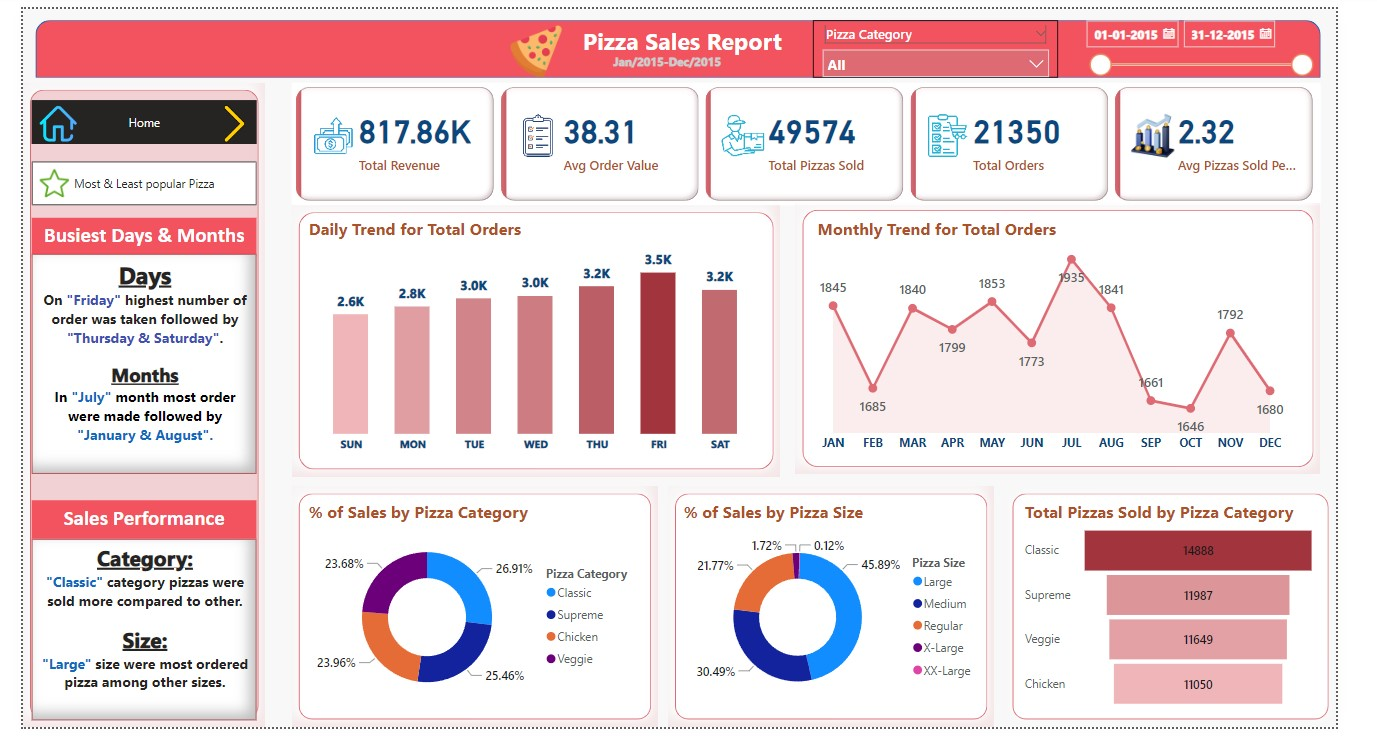

Layout of this report page (visuals, bound fields, positions):
{"tool":"powerbi","page":{"name":"Home","canvas":[1500,820],"ordinal":0},"visuals":[{"type":"shape","box":[0,84.3,277.1,735.7],"z":0},{"type":"cardVisual","fields":{"Data":["pizza_sales.Total Revenue","pizza_sales.Avg Order Value","pizza_sales.Total Pizzas Sold","pizza_sales.Total Orders","pizza_sales.Avg Pizzas Sold Per Order"]},"box":[307.1,84.3,1175.7,140],"z":1000},{"type":"textbox","box":[10,238.6,257.1,44.3],"z":2000},{"type":"shape","box":[14.3,12.9,1468.6,65.7],"z":3000},{"type":"textbox","box":[624.3,12.9,258.6,57.1],"z":4000},{"type":"textbox","box":[621.4,45.7,230,32.9],"z":5000},{"type":"image","box":[537.1,12.9,98.6,71.4],"z":6000},{"type":"shape","box":[307.1,224.3,558.6,310],"z":7000},{"type":"columnChart","title":"Daily Trend for Total Orders","fields":{"Category":["pizza_sales.Order Day"],"Y":["pizza_sales.Total Orders"]},"box":[321.4,238.6,530,277.1],"z":8000},{"type":"shape","box":[882.9,221.4,600,310],"z":9000},{"type":"areaChart","title":"Monthly Trend for Total Orders","fields":{"Y":["pizza_sales.Total Orders"],"Category":["pizza_sales.Order Month"]},"box":[902.9,238.6,545.7,277.1],"z":10000},{"type":"shape","box":[307.1,545.7,418.6,274.3],"z":11000},{"type":"shape","box":[737.1,545.7,372.9,274.3],"z":12000},{"type":"shape","box":[1122.9,545.7,377.1,274.3],"z":13000},{"type":"donutChart","title":"% of Sales by Pizza Category","fields":{"Category":["pizza_sales.pizza_category"],"Y":["pizza_sales.Total Revenue"]},"box":[321.4,561.4,390,242.9],"z":14000},{"type":"donutChart","title":"% of Sales by Pizza Size","fields":{"Category":["pizza_sales.pizza_size"],"Y":["pizza_sales.Total Revenue"]},"box":[750,561.4,350,242.9],"z":15000},{"type":"funnel","title":"Total Pizzas Sold by Pizza Category","fields":{"Category":["pizza_sales.pizza_category"],"Y":["pizza_sales.Total Pizzas Sold"]},"box":[1140,561.4,342.9,242.9],"z":16000},{"type":"textbox","box":[10,280,257.1,251.4],"z":17000},{"type":"textbox","box":[10,561.4,257.1,44.3],"z":18000},{"type":"textbox","box":[10,605.7,257.1,207.1],"z":19000},{"type":"slicer","fields":{"Values":["pizza_sales.pizza_category"]},"box":[902.9,12.9,280,65.7],"z":20000},{"type":"slicer","fields":{"Values":["pizza_sales.order_date"]},"box":[1202.9,2.9,280,91.4],"z":21000},{"type":"pageNavigator","box":[10,173.8,257.5,50],"z":22000},{"type":"pageNavigator","box":[10,103.8,257.5,50],"z":23000},{"type":"image","box":[215,103.8,52.5,53.8],"z":24000},{"type":"image","box":[13.8,103.8,52.5,53.8],"z":25000},{"type":"image","box":[13.8,173.8,43.8,50],"z":26000}]}

Visuals, with their boxes in screenshot pixels (x1, y1, x2, y2), scaled from the page's 1500x820 canvas onto the 1377x737 screenshot:
shape: {"left": 0, "top": 76, "right": 254, "bottom": 736}
cardVisual - pizza_sales.Total Revenue x pizza_sales.Avg Order Value: {"left": 282, "top": 76, "right": 1361, "bottom": 202}
textbox: {"left": 9, "top": 214, "right": 245, "bottom": 254}
shape: {"left": 13, "top": 12, "right": 1361, "bottom": 71}
textbox: {"left": 573, "top": 12, "right": 811, "bottom": 63}
textbox: {"left": 570, "top": 41, "right": 782, "bottom": 71}
image: {"left": 493, "top": 12, "right": 584, "bottom": 76}
shape: {"left": 282, "top": 202, "right": 795, "bottom": 480}
"Daily Trend for Total Orders" columnChart: {"left": 295, "top": 214, "right": 782, "bottom": 464}
shape: {"left": 811, "top": 199, "right": 1361, "bottom": 478}
"Monthly Trend for Total Orders" areaChart: {"left": 829, "top": 214, "right": 1330, "bottom": 464}
shape: {"left": 282, "top": 490, "right": 666, "bottom": 736}
shape: {"left": 677, "top": 490, "right": 1019, "bottom": 736}
shape: {"left": 1031, "top": 490, "right": 1376, "bottom": 736}
"% of Sales by Pizza Category" donutChart: {"left": 295, "top": 505, "right": 653, "bottom": 723}
"% of Sales by Pizza Size" donutChart: {"left": 688, "top": 505, "right": 1010, "bottom": 723}
"Total Pizzas Sold by Pizza Category" funnel: {"left": 1047, "top": 505, "right": 1361, "bottom": 723}
textbox: {"left": 9, "top": 252, "right": 245, "bottom": 478}
textbox: {"left": 9, "top": 505, "right": 245, "bottom": 544}
textbox: {"left": 9, "top": 544, "right": 245, "bottom": 731}
slicer - pizza_sales.pizza_category: {"left": 829, "top": 12, "right": 1086, "bottom": 71}
slicer - pizza_sales.order_date: {"left": 1104, "top": 3, "right": 1361, "bottom": 85}
pageNavigator: {"left": 9, "top": 156, "right": 246, "bottom": 201}
pageNavigator: {"left": 9, "top": 93, "right": 246, "bottom": 138}
image: {"left": 197, "top": 93, "right": 246, "bottom": 142}
image: {"left": 13, "top": 93, "right": 61, "bottom": 142}
image: {"left": 13, "top": 156, "right": 53, "bottom": 201}
